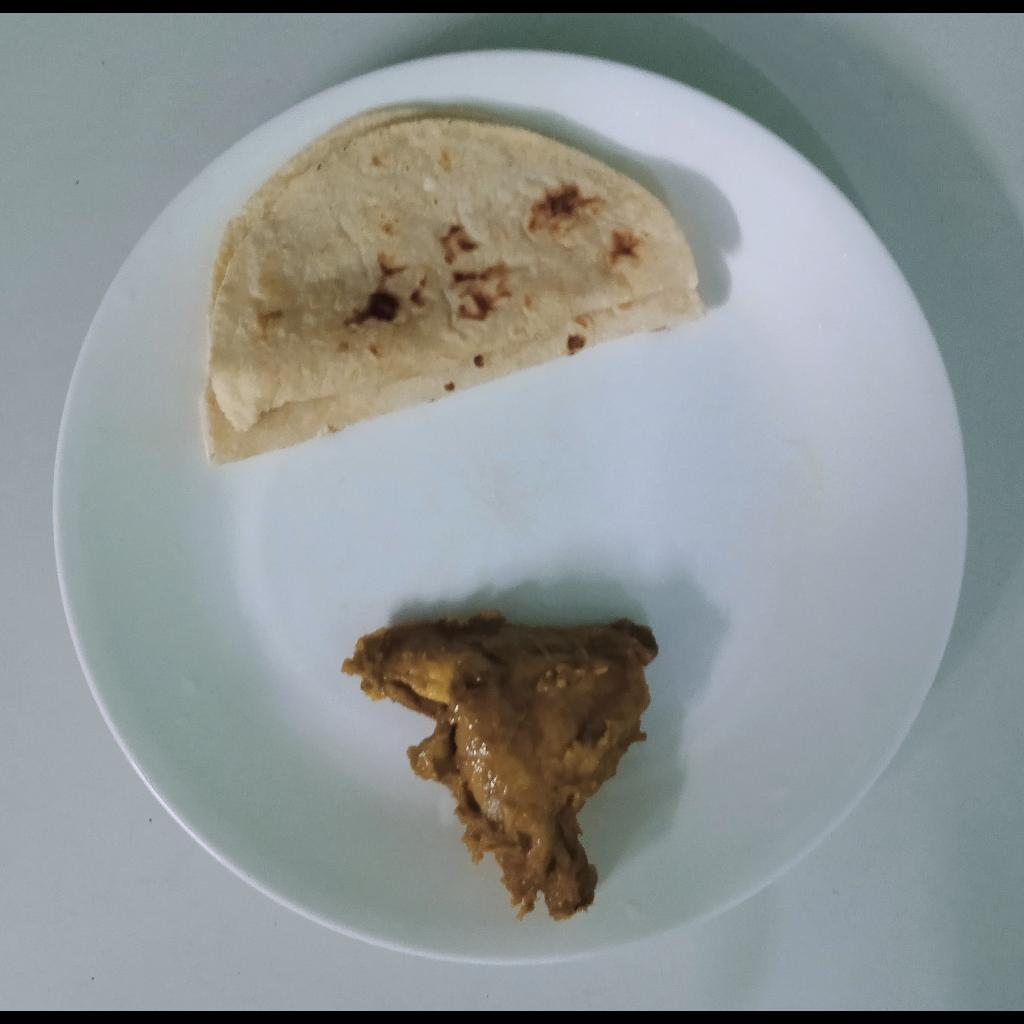chicken: (341, 611, 659, 922)
ruti: (200, 107, 710, 467)
